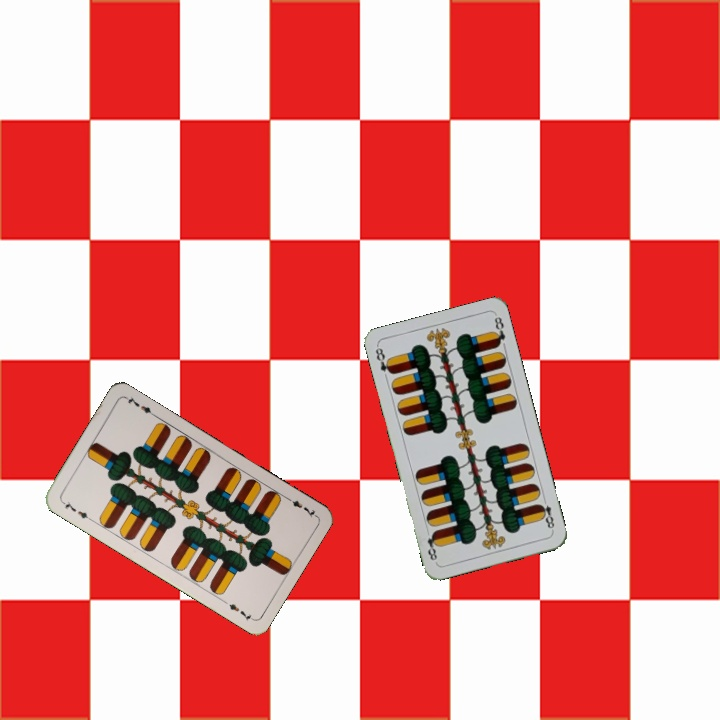E7: (282, 492, 318, 520), (58, 497, 94, 524)
E8: (535, 494, 557, 534), (371, 343, 395, 377)
